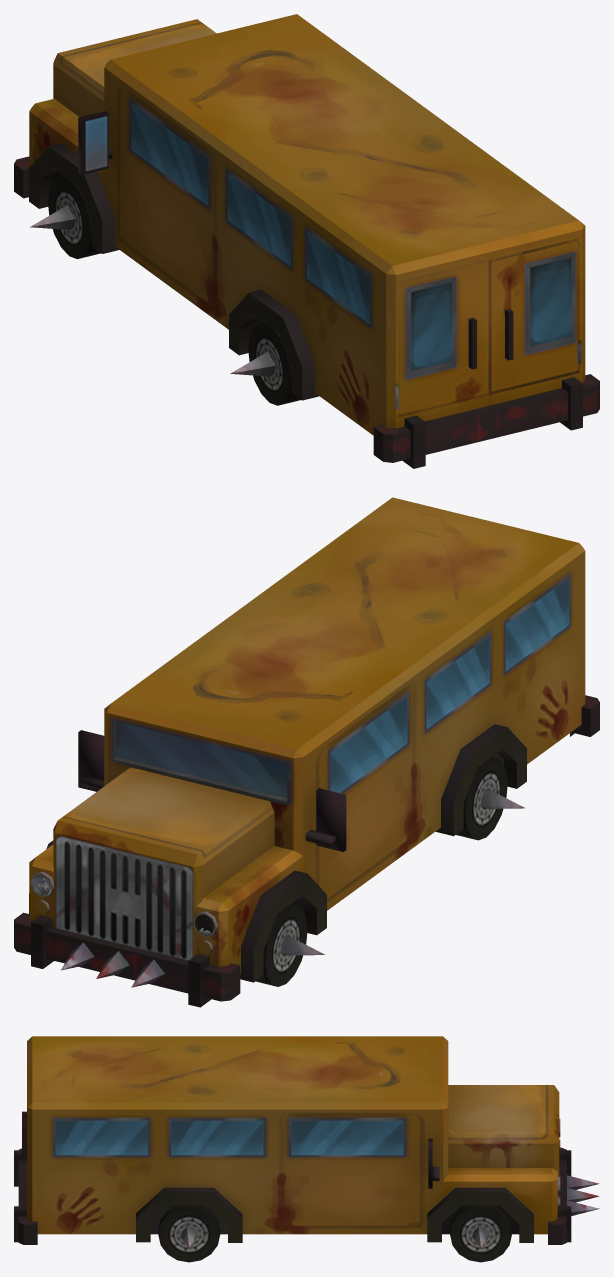
The model's file is prp_bus_01.FBX.
3 renders of one model, top to bottom at view 1: azimuth 30°, elevation 25°; view 2: azimuth 150°, elevation 25°; view 3: azimuth 270°, elevation 25°, orthographic. The views are drawn at different scales.
Visible parts, largest first — view 1: prp_bus_01; view 2: prp_bus_01; view 3: prp_bus_01.
Boxes of the visible parts, <box> form: prp_bus_01: <box>14,14,599,468</box>; prp_bus_01: <box>14,497,599,1007</box>; prp_bus_01: <box>14,1036,599,1262</box>.
Size of the model in its own units: 2.72 by 1.87 by 6.42.
Materials: 1 (1 with a texture image).
